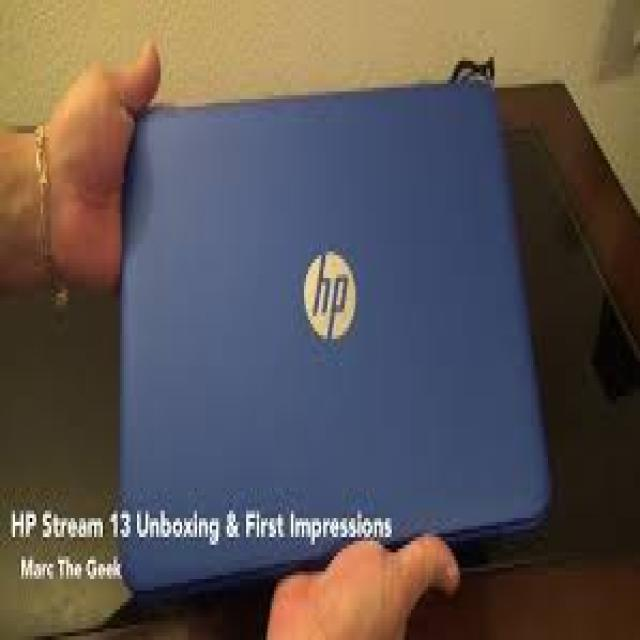laptop: (116, 76, 552, 602)
